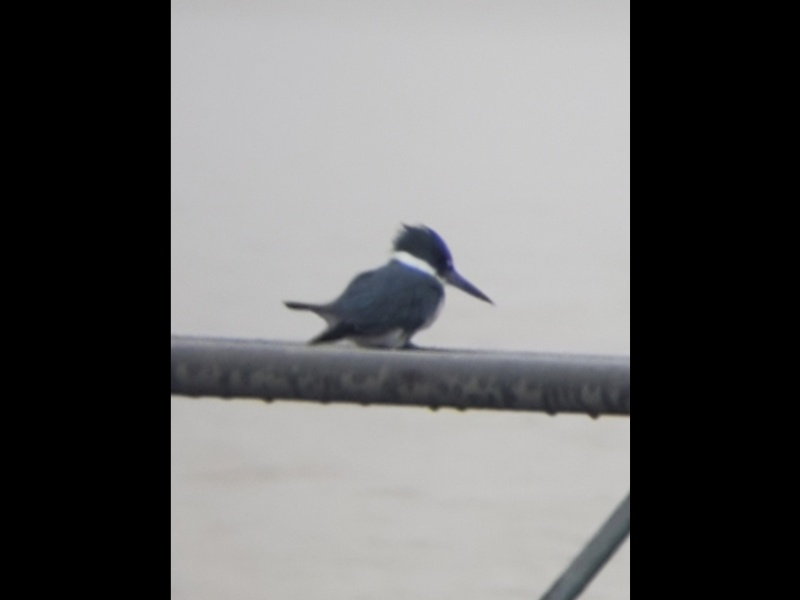kingfisher: (280, 220, 496, 352)
